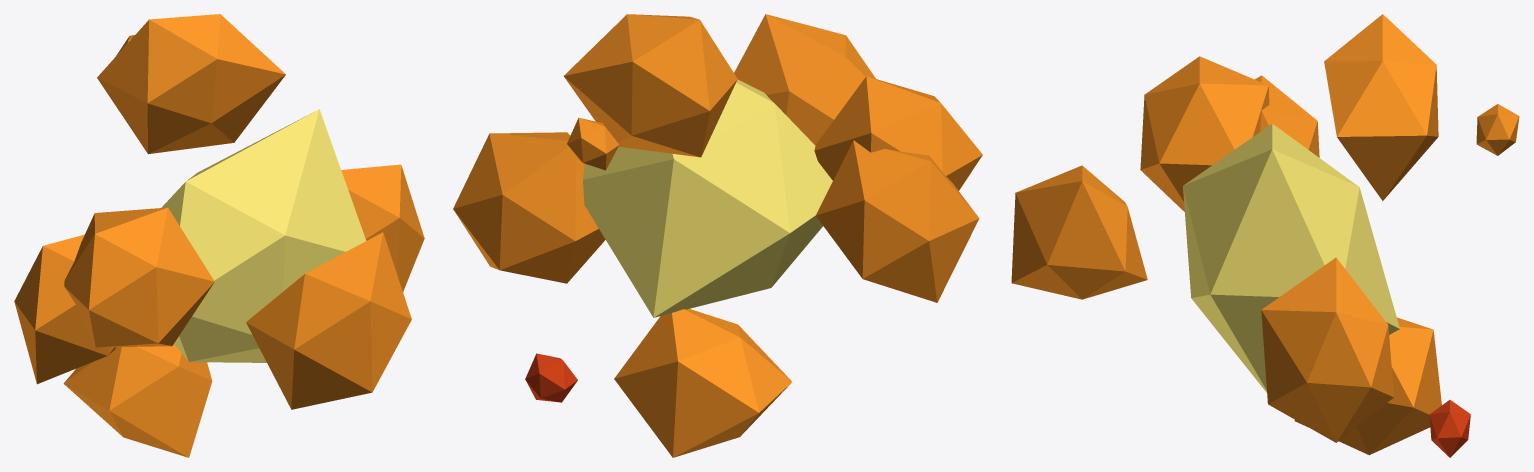
The model's file is frame_5.glb.
The picture shows the model from 3 angles, left to right: view 1: azimuth 30°, elevation 25°; view 2: azimuth 150°, elevation 25°; view 3: azimuth 270°, elevation 25°; orthographic projection. The views are drawn at different scales.
Parts seen in each view (by area): view 1: effect_explosion_small_frame_5; view 2: effect_explosion_small_frame_5; view 3: effect_explosion_small_frame_5.
Boxes of the visible parts, box(x1,y1,x2,y2) form: effect_explosion_small_frame_5: box(14, 14, 424, 457); effect_explosion_small_frame_5: box(453, 14, 982, 457); effect_explosion_small_frame_5: box(1011, 14, 1519, 457).
Bounding box in the file's own units: 7.85 × 7.16 × 7.77.
